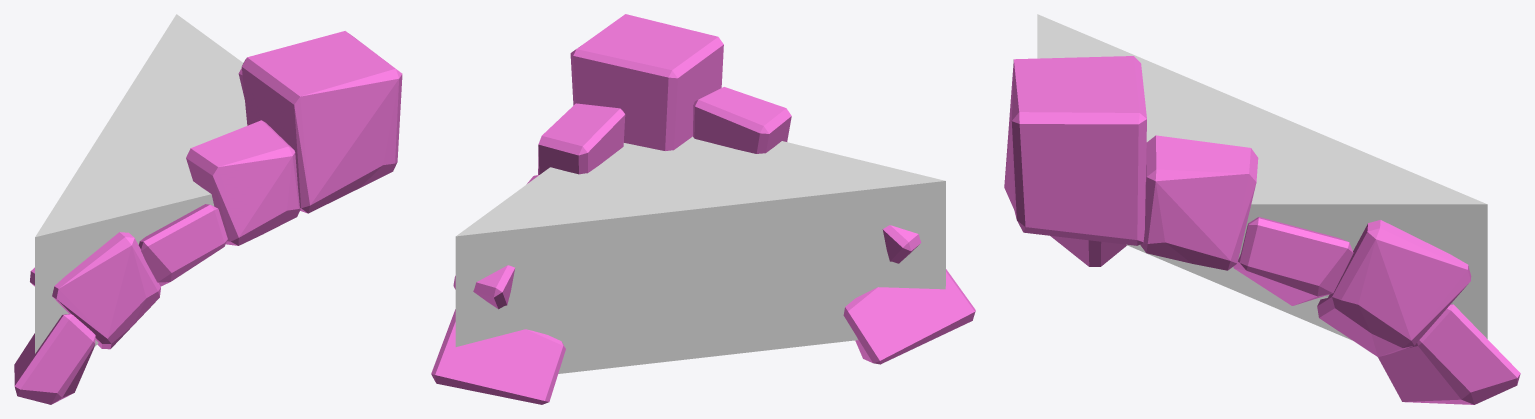
The model's file is SM_Wall_Thick_Corner_Arch_Fantasy.fbx.
The picture shows the model from 3 angles, left to right: view 1: azimuth 30°, elevation 25°; view 2: azimuth 150°, elevation 25°; view 3: azimuth 270°, elevation 25°; orthographic projection. The views are drawn at different scales.
Parts seen in each view (by area): view 1: SM_Wall_Thick_Corner_Arch_Fantasy; view 2: SM_Wall_Thick_Corner_Arch_Fantasy; view 3: SM_Wall_Thick_Corner_Arch_Fantasy.
Part boxes in pixels (bbox=[...]): SM_Wall_Thick_Corner_Arch_Fantasy: bbox=[14, 14, 402, 404]; SM_Wall_Thick_Corner_Arch_Fantasy: bbox=[431, 14, 975, 404]; SM_Wall_Thick_Corner_Arch_Fantasy: bbox=[1004, 14, 1520, 404].
Bounding box in the file's own units: 2.54 × 1.74 × 2.52.
